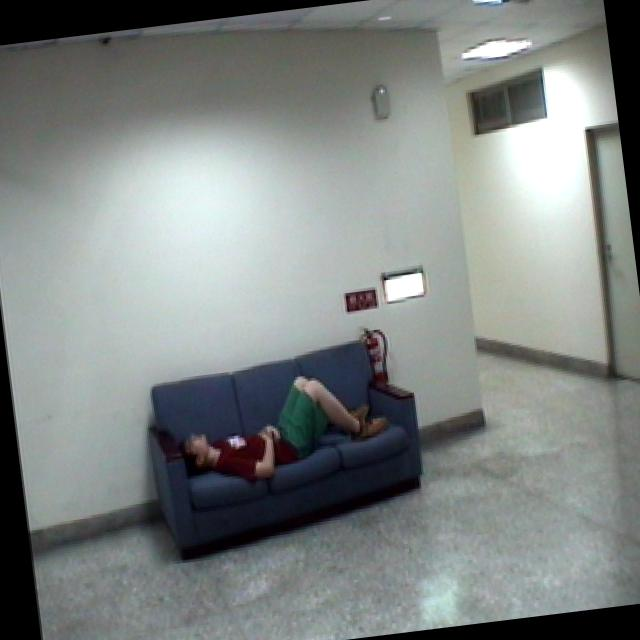lie: (173, 362, 396, 496)
